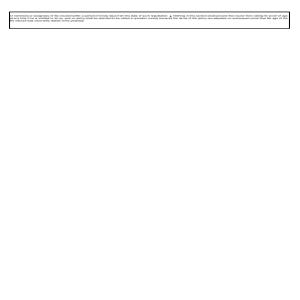text: (10, 13, 289, 24)
